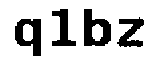1: (48, 6, 78, 50)
b: (82, 8, 114, 50)
q: (13, 17, 42, 60)
z: (116, 17, 148, 51)
